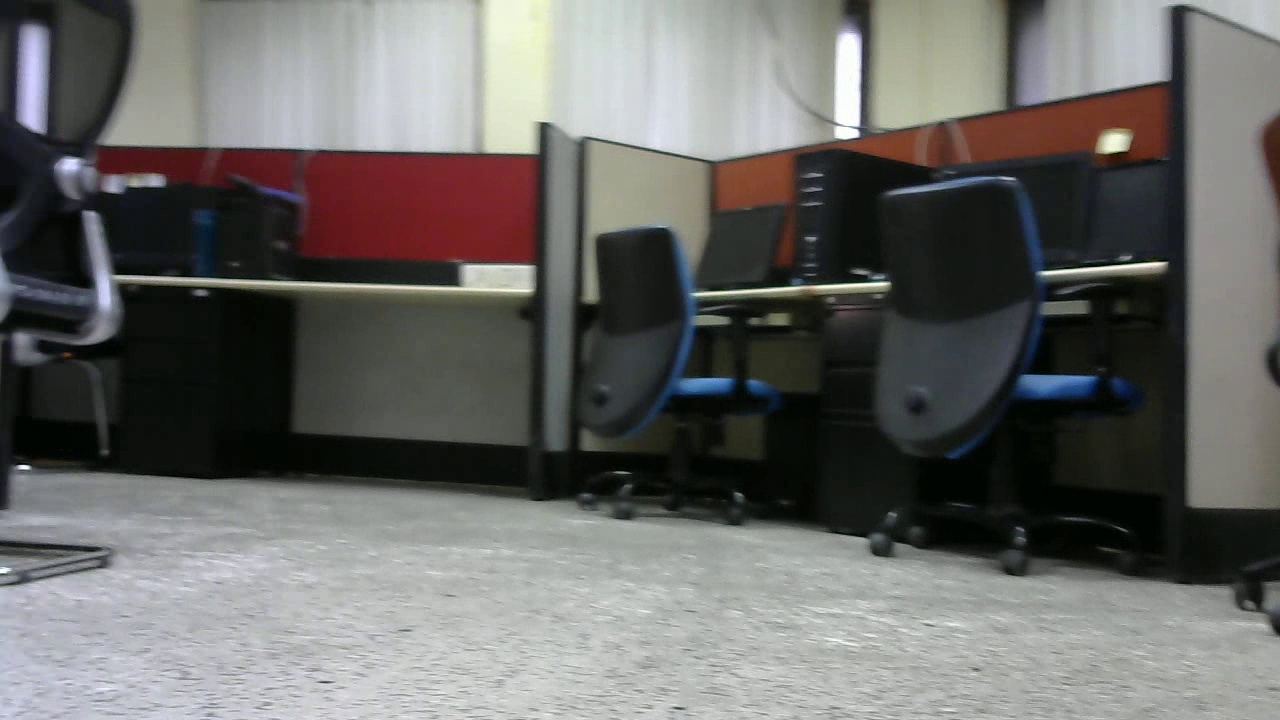chair: (867, 179, 1147, 585), (582, 225, 773, 532)
